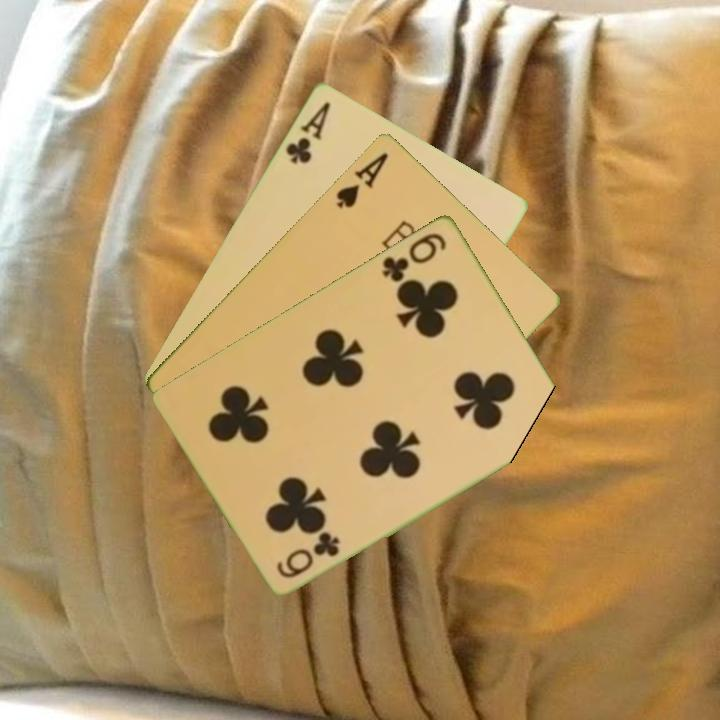6c: (379, 228, 450, 285), (273, 529, 343, 581)
Ac: (282, 97, 333, 166)
As: (332, 148, 392, 211)
